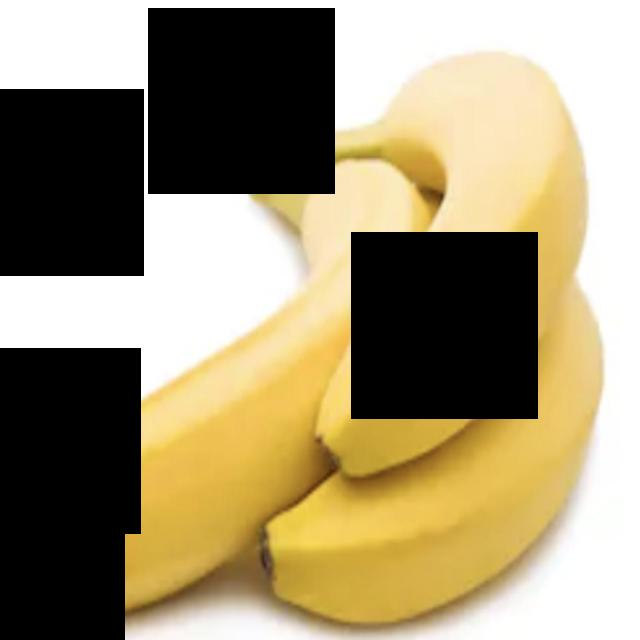banana: (0, 143, 426, 623), (272, 34, 602, 493)
